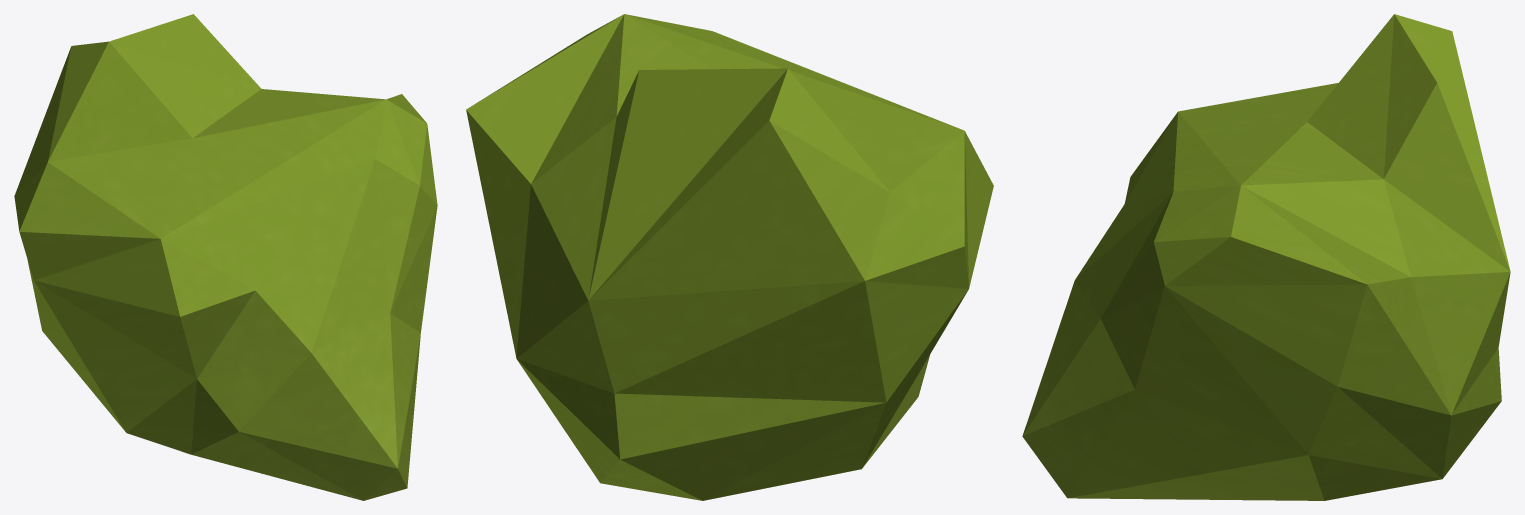
Rendered from ArbustoCh.fbx.
3 views of the same model, side by side, from view 1: azimuth 30°, elevation 25°; view 2: azimuth 150°, elevation 25°; view 3: azimuth 270°, elevation 25° (orthographic). The views are drawn at different scales.
Visible parts, largest first — view 1: ArbustoCh; view 2: ArbustoCh; view 3: ArbustoCh.
Part boxes in pixels (box(x1,y1,x2,y2)): ArbustoCh: box(14, 14, 437, 500); ArbustoCh: box(466, 14, 993, 500); ArbustoCh: box(1022, 14, 1510, 500).
Bounding box in the file's own units: 126 × 122 × 115.
1 material, 1 textured.
